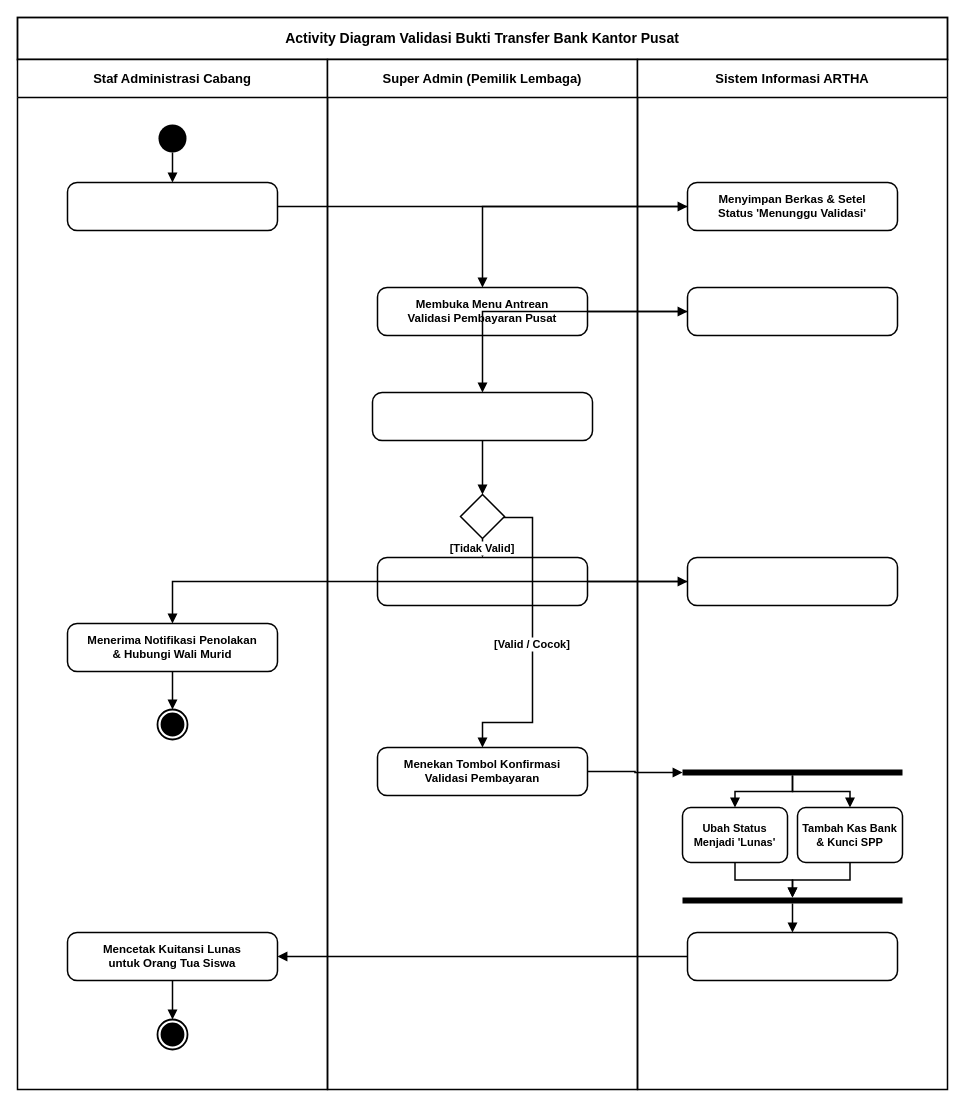
The diagram is 966 pixels wide and 1108 high, and some of its shapes have lost their labels. The shapes that lost their labels are listed below. From the top down, each one's centre as x and y in pixels, then its label:
point (172, 206): Mengunggah Foto Bukti Transfer Perbankan
point (792, 311): Menampilkan Antrean & Pratinjau Bukti Transfer
point (482, 416): Mencocokkan Nominal & Nama Pengirim ke Rekening
point (482, 581): Memasukkan Catatan Alasan Penolakan Transaksi
point (792, 581): Setel Status 'Ditolak' & Kirim Notifikasi ke Cabang
point (792, 956): Menerbitkan Hak Cetak Kuitansi PDF di Cabang
